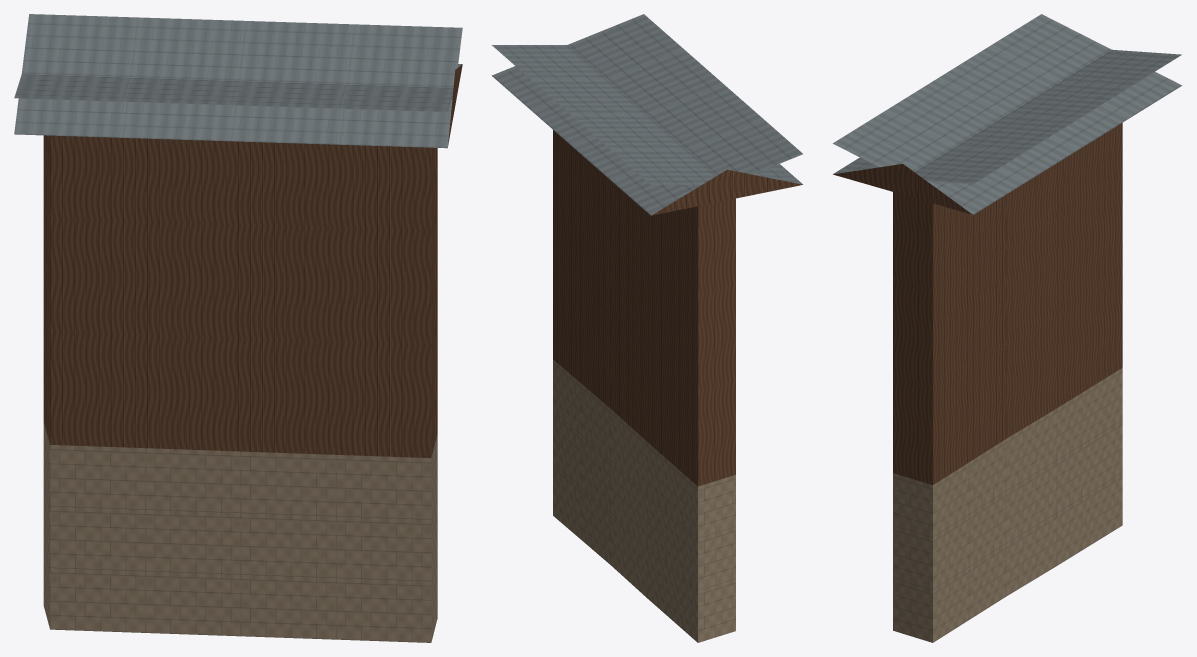
File: bld_c-1_-2_542.gltf
3 renders of one model, left to right at view 1: azimuth 30°, elevation 25°; view 2: azimuth 150°, elevation 25°; view 3: azimuth 270°, elevation 25°, orthographic. The views are drawn at different scales.
Parts seen in each view (by area): view 1: bld_c-1_-2_542; view 2: bld_c-1_-2_542; view 3: bld_c-1_-2_542.
Boxes of the visible parts, bbox=[...] form: bld_c-1_-2_542: bbox=[14, 14, 462, 642]; bld_c-1_-2_542: bbox=[492, 14, 802, 642]; bld_c-1_-2_542: bbox=[833, 14, 1181, 642].
Bounding box in the file's own units: 11.8 × 15.5 × 10.26.
Materials: 4 (4 with a texture image).
